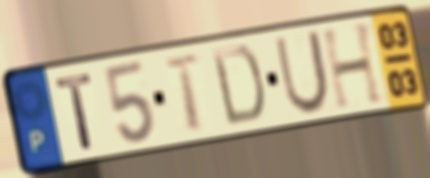5: (100, 57, 159, 147)
D: (208, 42, 267, 129)
H: (318, 18, 388, 113)
T: (161, 51, 207, 135), (53, 69, 97, 152)
U: (272, 27, 333, 117)
